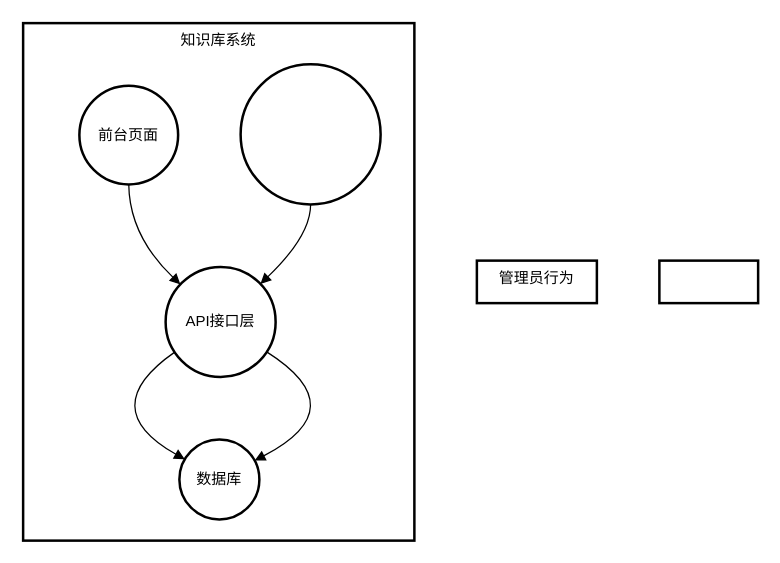
Some shapes in this 780 by 563 pixel diagram are drawn without their labels. The shapes that lost their labels are listed below. From the top down, each one's centre as x and y in pixels, then its label:
At point (310, 133): "后台管理页面".
At point (708, 281): "用户行为".
